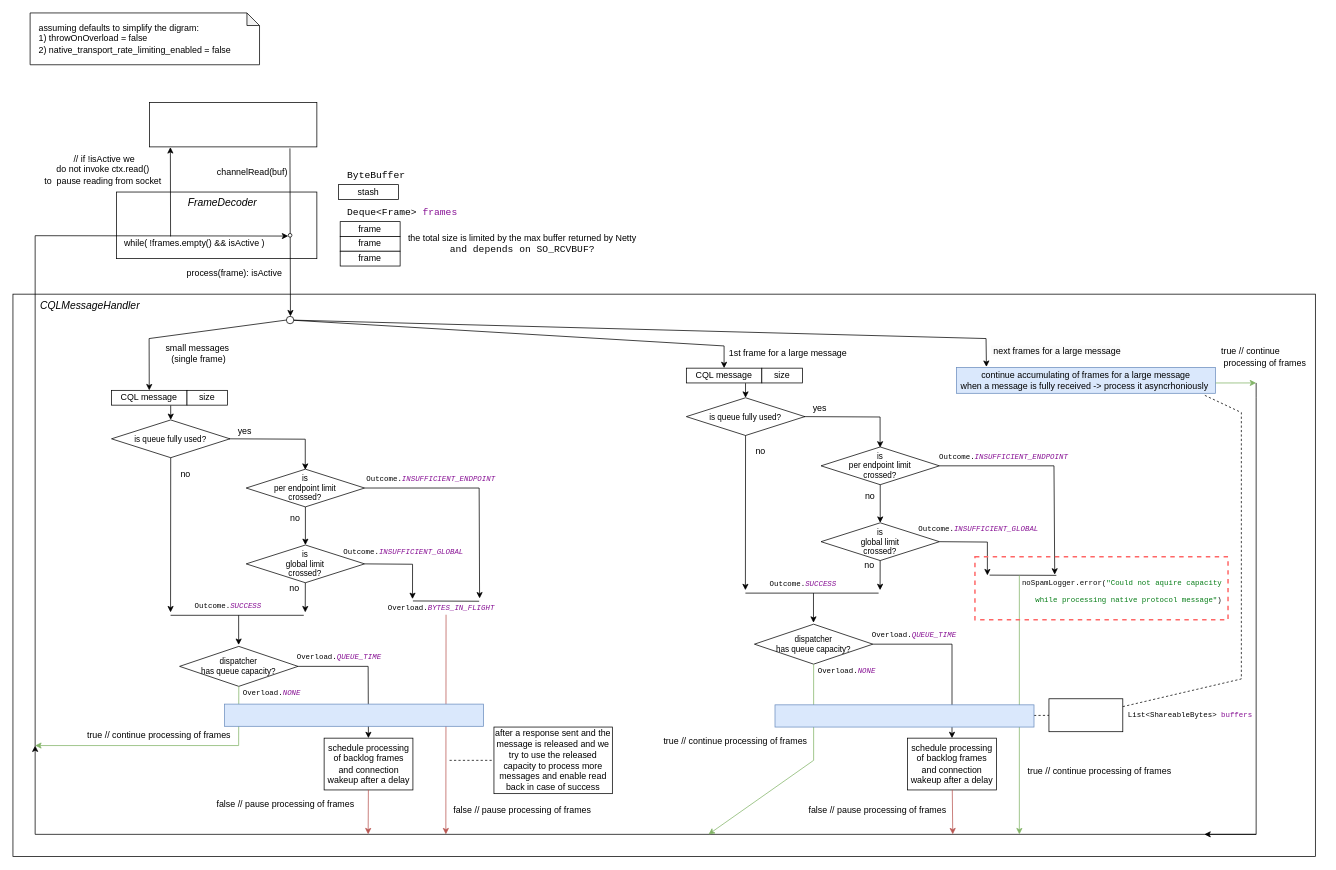
Image size: 1336x870. Some labels were removed from this diagram. The shapes that lost their labels are listed below. From the top down, each one's centre as x and y in pixels, then its label:
[233,124]: Netty ChannelHandlerContext autoRead = false
[354,714]: process request asynchroniously
[904,715]: start accumulating of frames for a large message
[1085,715]: LargeMessage
